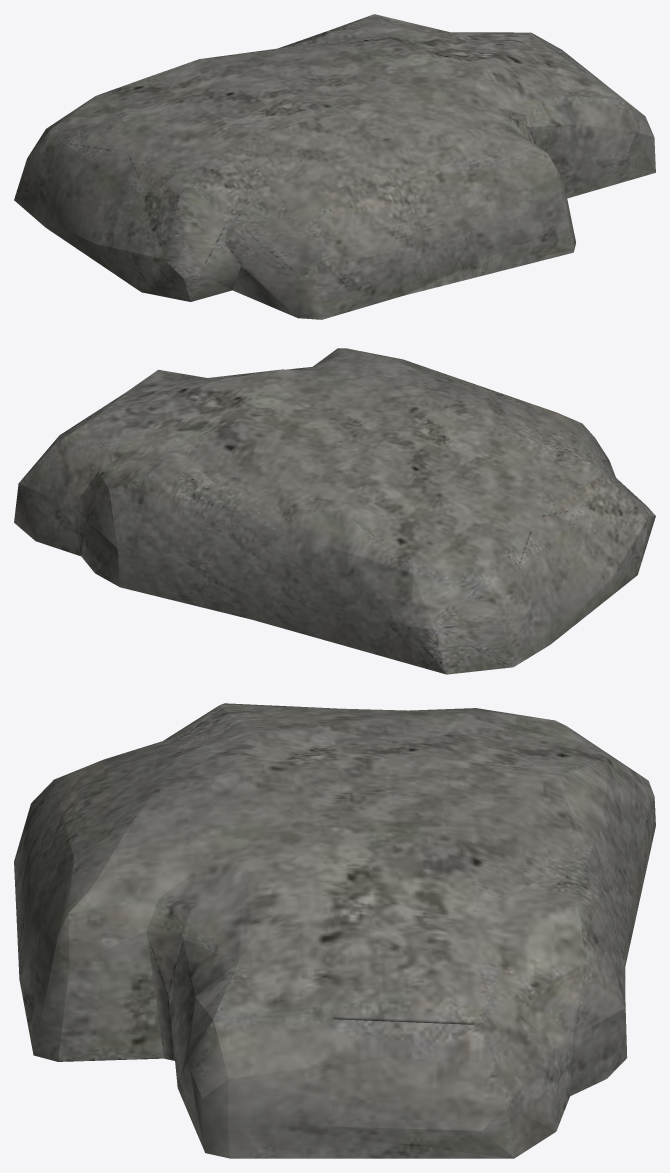
Rendered from Granite1_LOD0.FBX.
The picture shows the model from 3 angles, top to bottom: view 1: azimuth 30°, elevation 25°; view 2: azimuth 150°, elevation 25°; view 3: azimuth 270°, elevation 25°; orthographic projection. The views are drawn at different scales.
Visible parts, largest first — view 1: Granite1; view 2: Granite1; view 3: Granite1.
Part boxes in pixels (box(x1,y1,x2,y2)): Granite1: box(14, 14, 655, 319); Granite1: box(14, 348, 655, 674); Granite1: box(14, 703, 655, 1158).
Bounding box in the file's own units: 29.2 × 6.74 × 21.69.
Materials: 1 (1 with a texture image).
